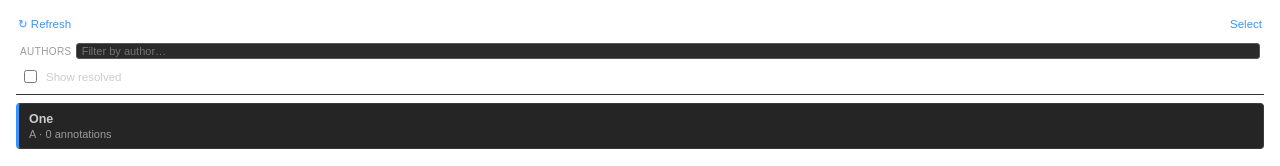
Scenario: App.svelte › shows transient "Refreshed" feedback after clicking refresh
The image size is (1280, 166).
Click the button with test id "refresh-btn" at (45, 24), box x1=18 y1=17 x2=71 y2=31
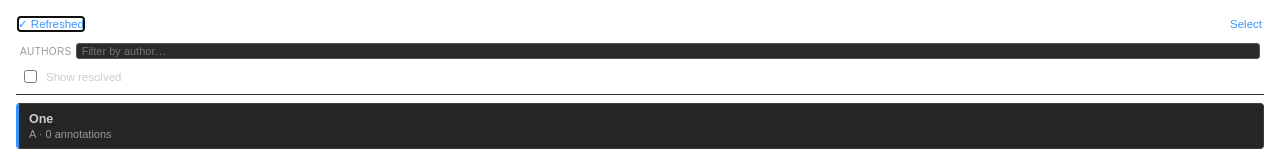
Result: the button with test id "refresh-btn" reads "✓ Refreshed" at x1=18 y1=17 x2=84 y2=31
